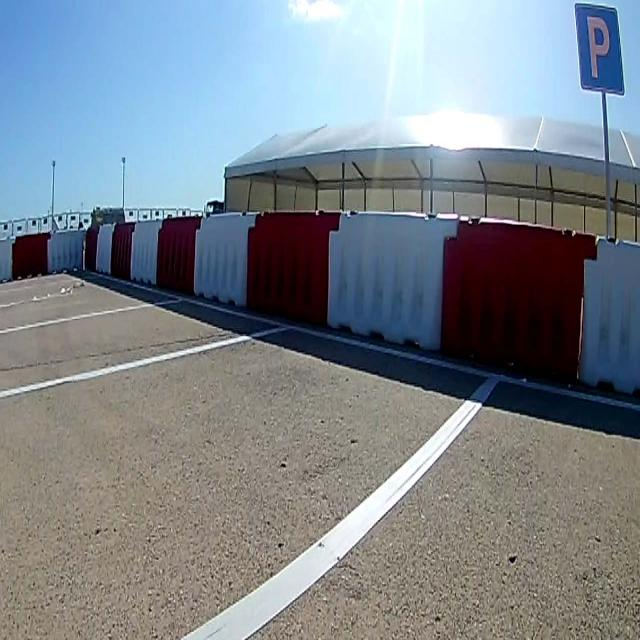park: (575, 2, 625, 100)
